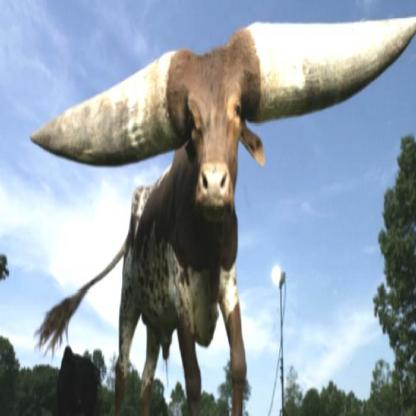cow: (116, 30, 269, 410)
